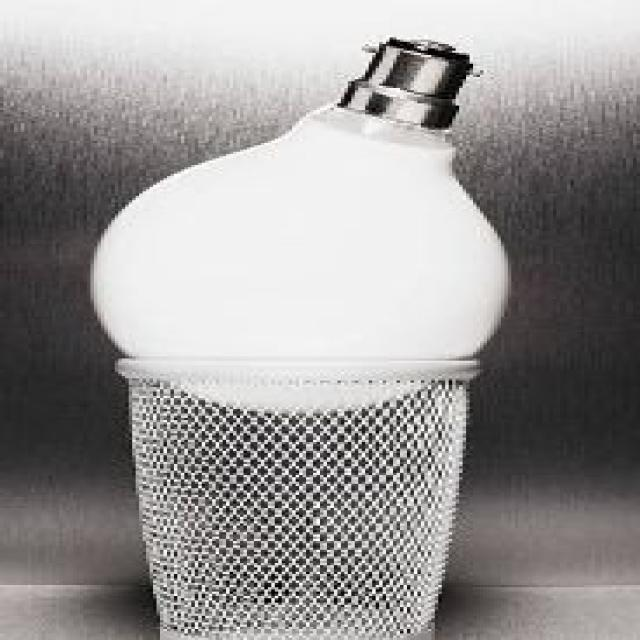electronic: (87, 35, 511, 370)
